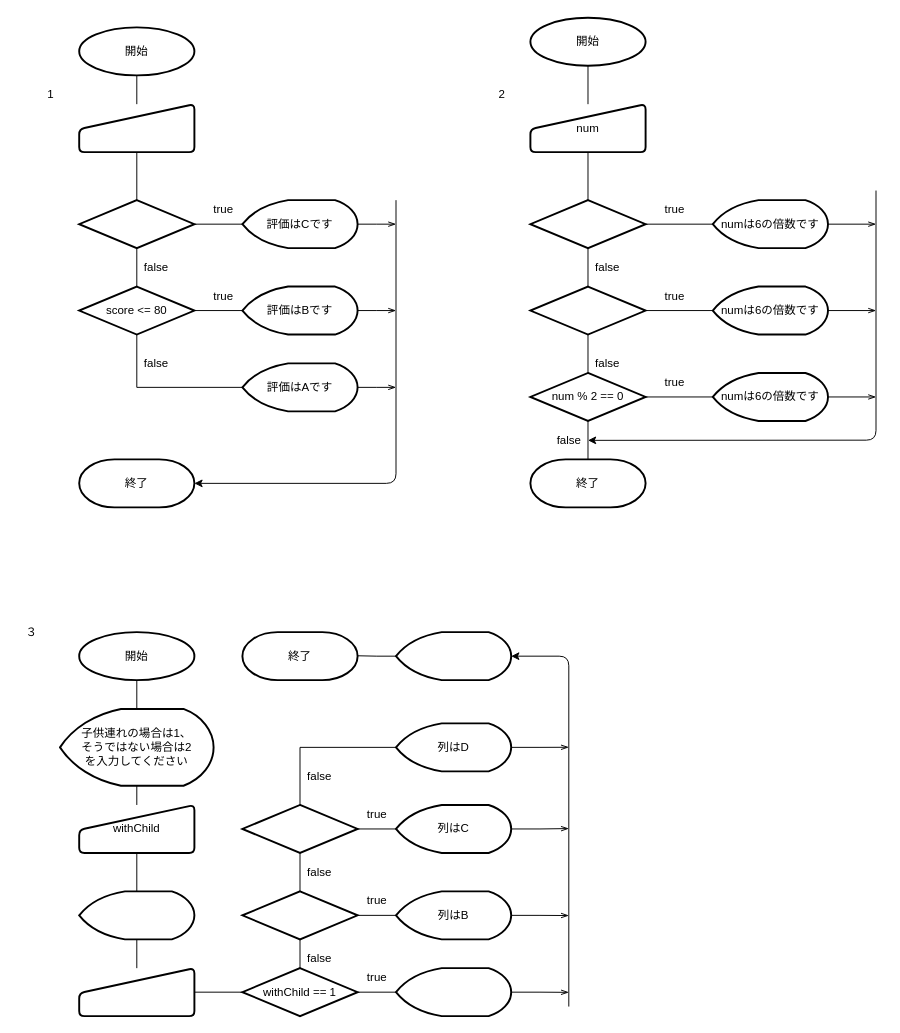
Some shapes in this 900 by 1033 pixel diagram are drawn without their labels. The shapes that lost their labels are listed below. From the top down, each one's centre as x and y in pixels, then its label:
At point 136,128: "score".
At point 136,224: "score <= 60".
At point 587,224: "num % 6 == 0".
At point 587,310: "num % 3 == 0".
At point 453,656: "ごゆっくりお楽 しみください".
At point 299,828: "height <= 170".
At point 136,915: "身長を㎝で入力 してください".
At point 299,915: "height <= 150".
At point 136,992: "height".
At point 453,992: "列はA".
